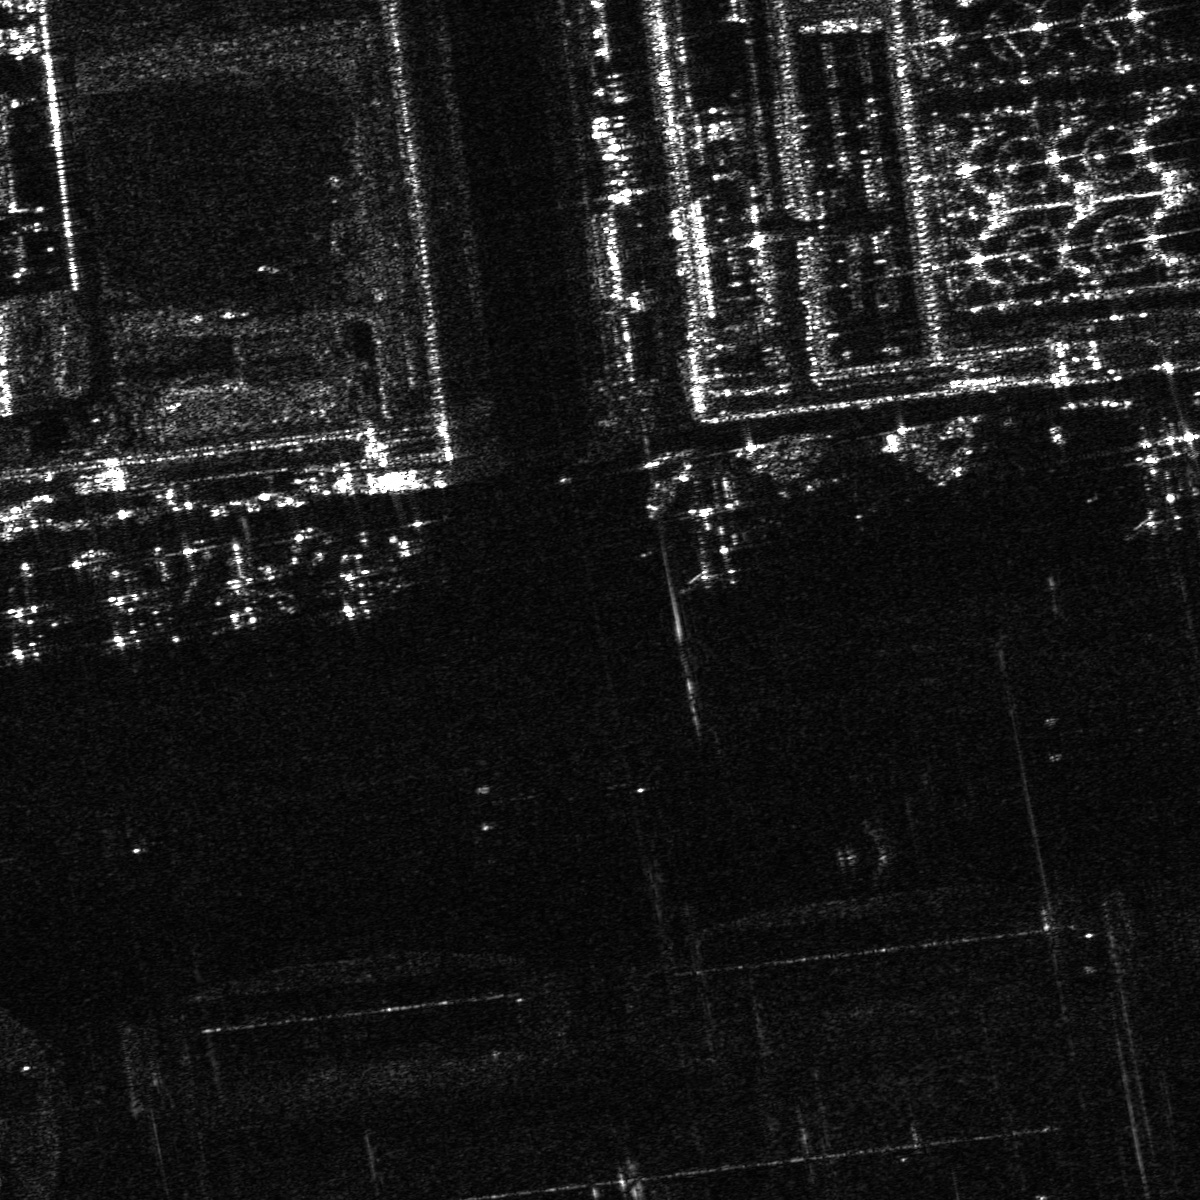Boeing787: (208, 544, 292, 638), (89, 557, 162, 644), (326, 538, 391, 621)
other: (638, 496, 771, 595), (1127, 438, 1199, 527)
